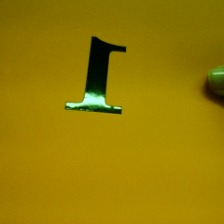orange1: (58, 29, 133, 122)
